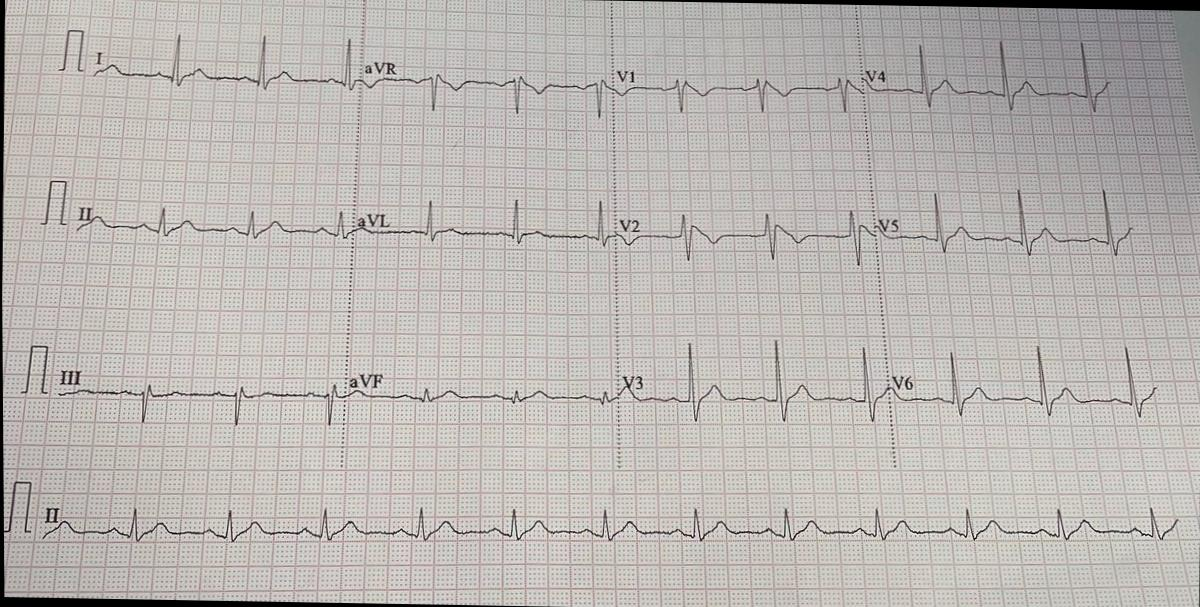Lead_I: (85, 20, 366, 123)
Lead_II: (73, 185, 354, 263)
Lead_III: (48, 355, 346, 441)
Lead_II_ext: (31, 484, 1188, 574)
Lead_V1: (608, 57, 865, 124)
Lead_V2: (615, 193, 879, 269)
Lead_V3: (616, 330, 892, 445)
Lead_V4: (861, 25, 1117, 138)
Lead_V5: (867, 176, 1144, 274)
Lead_V6: (884, 334, 1170, 437)
Lead_aVF: (344, 349, 621, 418)
Lead_aVL: (352, 184, 619, 265)
Lead_aVR: (363, 34, 613, 136)
